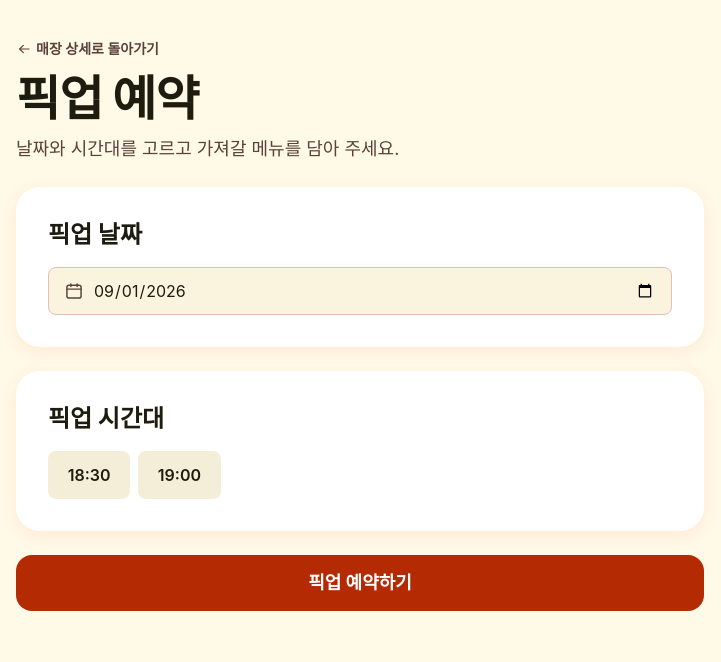
Test case: 픽업 예약 작성 › 서버 잔여를 넘겨 수량을 고를 수 없다
This screenshot has width=721, height=662.
Step 1. Click the button "18:30" → (89, 475), box top-left (48, 451), bottom-right (130, 499)
(page scrolled)
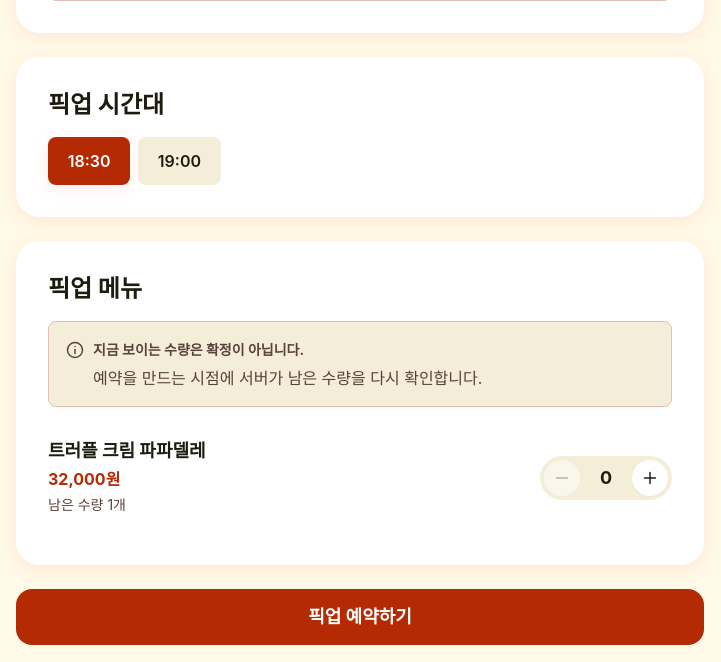
Step 2. Click the button named "트러플 크림 파파델레 수량 늘리기" → (650, 478), box top-left (632, 460), bottom-right (668, 496)
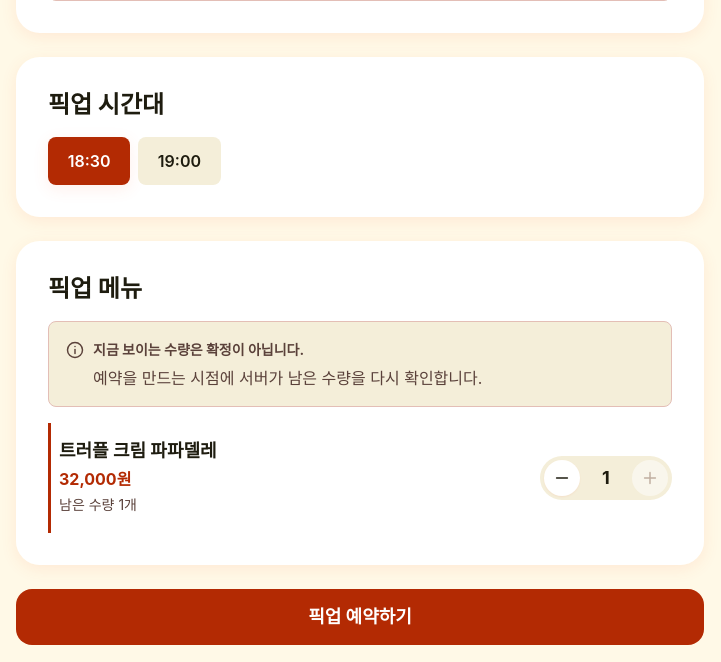
Now the button named "트러플 크림 파파델레 수량 늘리기" is disabled, box top-left (632, 460), bottom-right (668, 496)
